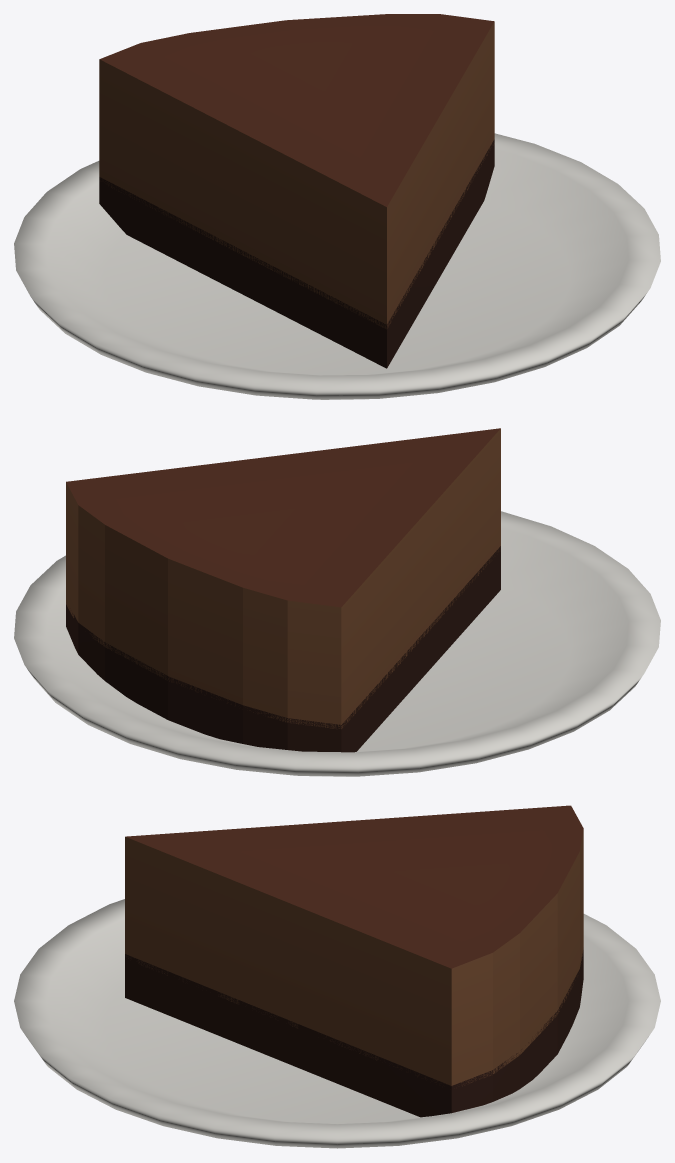
The model's file is item_dish_choc_cheesecake.glb.
3 views of the same model, one above another, from view 1: azimuth 30°, elevation 25°; view 2: azimuth 150°, elevation 25°; view 3: azimuth 270°, elevation 25° (orthographic).
Parts seen in each view (by area): view 1: item_dish_choc_cheesecake_main; view 2: item_dish_choc_cheesecake_main; view 3: item_dish_choc_cheesecake_main.
Boxes of the visible parts, x1,y1,x2,y2 form: item_dish_choc_cheesecake_main: (14, 14, 660, 399); item_dish_choc_cheesecake_main: (14, 428, 660, 776); item_dish_choc_cheesecake_main: (14, 805, 660, 1148).
Bounding box in the file's own units: 0.24 × 0.076 × 0.24.
